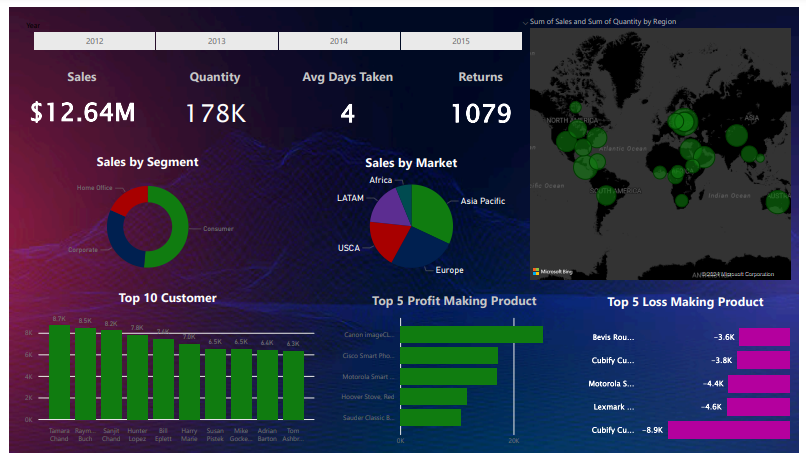

What the dashboard file says about the page in this screenshot:
{"tool":"powerbi","page":{"name":"Page 1","canvas":[1280,720],"ordinal":0},"visuals":[{"type":"card","title":"Sales","fields":{"Values":["Orders.Sales"]},"box":[13.7,96.1,207.2,116.6],"z":0},{"type":"card","title":"Quantity","fields":{"Values":["Orders.Quantity"]},"box":[233.3,96.1,200.3,116.6],"z":1000},{"type":"card","title":"Avg Days Taken","fields":{"Values":["Orders.Days Taken for Delivery"]},"box":[448.7,96.1,200.3,116.6],"z":2000},{"type":"card","title":"Returns","fields":{"Values":["Returns.Returned"]},"box":[673.8,96.1,181.1,116.6],"z":3000},{"type":"slicer","fields":{"Values":["Orders.Year"]},"box":[13.7,13.7,841.2,61.7],"z":4000},{"type":"columnChart","title":"Top 10 Customer","fields":{"Category":["Orders.Customer Name"],"Y":["Orders.Profit"]},"box":[13.7,454.2,485.8,259.3],"z":5000},{"type":"donutChart","title":"Sales by Segment","fields":{"Category":["Orders.Segment"],"Y":["Orders.Sales"]},"box":[13.7,234.6,419.9,209.9],"z":6000},{"type":"pieChart","title":"Sales by Market","fields":{"Category":["Orders.Market"],"Y":["Orders.Sales"]},"box":[448.7,236,406.2,209.9],"z":7000},{"type":"clusteredBarChart","title":"Top 5 Profit Making Product","fields":{"Y":["Orders.Profit"],"Category":["Orders.Product Name"]},"box":[520.1,459.7,403.4,259.3],"z":8000},{"type":"clusteredBarChart","title":"Top 5 Loss Making Product","fields":{"Category":["Orders.Product Name"],"Y":["Orders.Profit"]},"box":[923,461,348,259],"z":9001},{"type":"map","fields":{"Category":["Orders.Region"],"Size":["Orders.Sales"]},"box":[840,13.3,431.7,433.3],"z":9002}]}

Visuals, with their boxes in screenshot pixels (x1, y1, x2, y2), scaled from the page's 1280x720 canvas onto the 806x465 screenshot:
"Sales" card: [left=9, top=62, right=139, bottom=137]
"Quantity" card: [left=147, top=62, right=273, bottom=137]
"Avg Days Taken" card: [left=283, top=62, right=409, bottom=137]
"Returns" card: [left=424, top=62, right=538, bottom=137]
slicer - Orders.Year: [left=9, top=9, right=538, bottom=49]
"Top 10 Customer" columnChart: [left=9, top=293, right=315, bottom=461]
"Sales by Segment" donutChart: [left=9, top=152, right=273, bottom=287]
"Sales by Market" pieChart: [left=283, top=152, right=538, bottom=288]
"Top 5 Profit Making Product" clusteredBarChart: [left=328, top=297, right=582, bottom=464]
"Top 5 Loss Making Product" clusteredBarChart: [left=581, top=298, right=800, bottom=464]
map - Orders.Region x Orders.Sales: [left=529, top=9, right=801, bottom=288]
